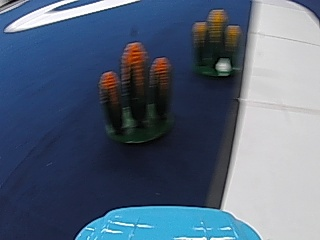corn: (98, 46, 174, 147), (193, 10, 241, 77)
